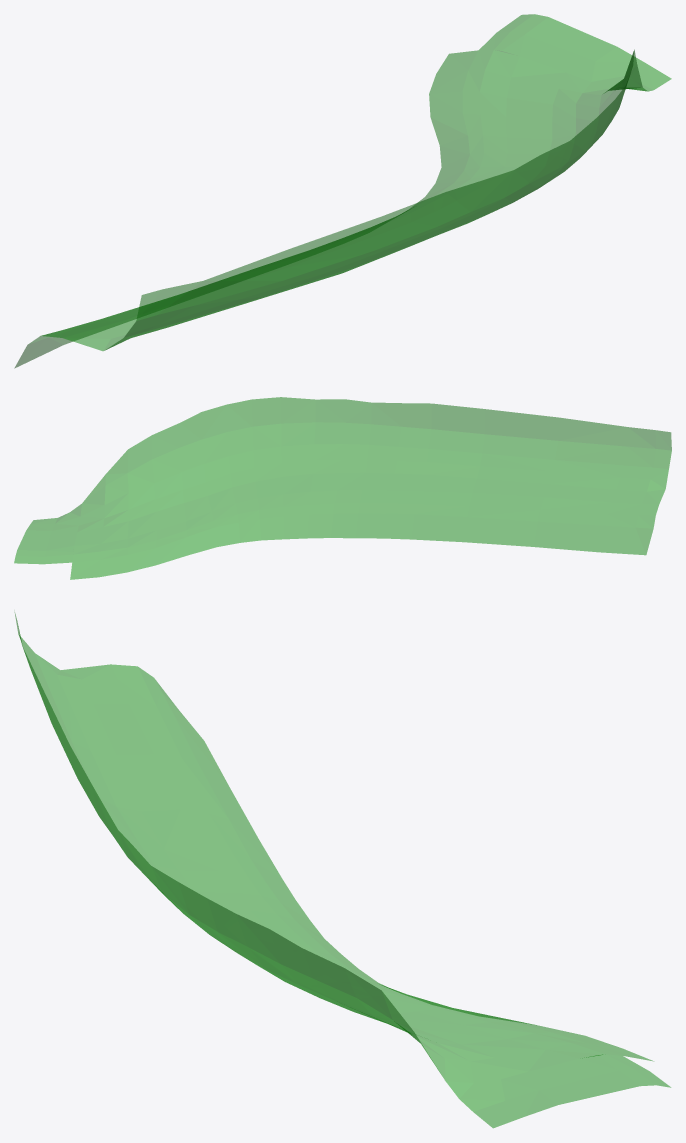
File: quicksand3.obj
3 renders of one model, top to bottom at view 1: azimuth 30°, elevation 25°; view 2: azimuth 150°, elevation 25°; view 3: azimuth 270°, elevation 25°, orthographic. The views are drawn at different scales.
Bounding box in the file's own units: 151 × 27.14 × 107.
